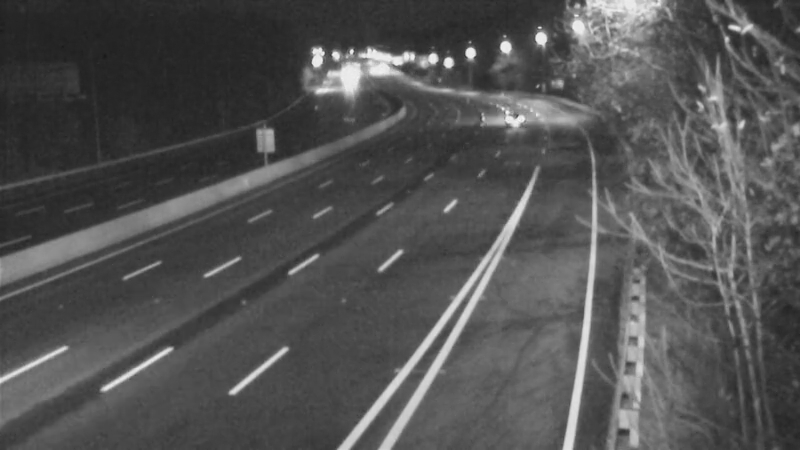vehicle: (488, 95, 538, 145)
